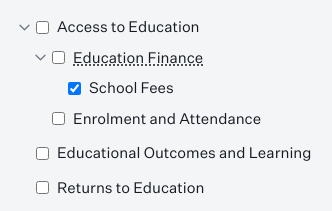
Test: ConceptSchemeFilter (collapsible) › collapsing leaves checked descendants applied
Step 1. Click the button named "Child concepts of Education Finance" → coordinates (40, 58), box x1=28 y1=46 x2=52 y2=70
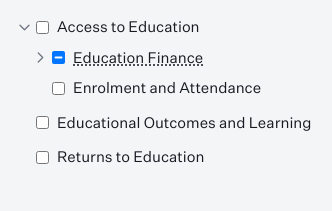
Expected: the text labelled "School Fees" is gone
Step 2. Click the button named "Child concepts of Education Finance" → coordinates (40, 58), box x1=28 y1=46 x2=52 y2=70
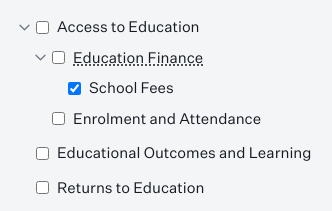
Expected: the checkbox labelled "School Fees" is checked, x1=68 y1=82 x2=81 y2=95
